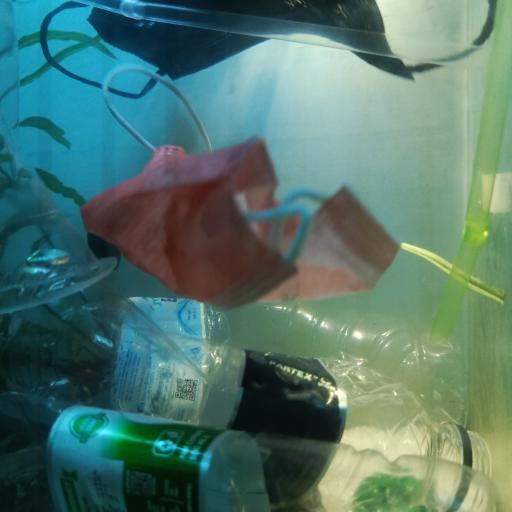mask: (82, 65, 399, 309), (42, 0, 498, 98)
plastic_bottle: (15, 240, 491, 502), (18, 295, 470, 438), (12, 392, 501, 512)
plastic_straw: (429, 0, 512, 348), (71, 0, 486, 67)
